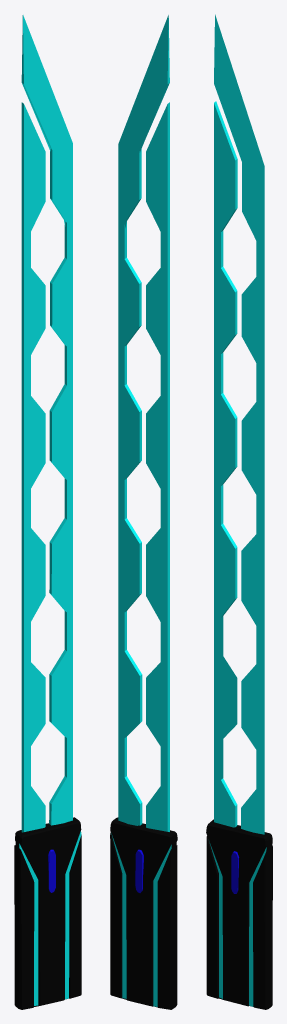
Rendered from sword.glb.
3 renders of one model, left to right at view 1: azimuth 30°, elevation 25°; view 2: azimuth 150°, elevation 25°; view 3: azimuth 330°, elevation 25°, orthographic.
Parts seen in each view (by area): view 1: ニューブレード, material.002, material, material.001; view 2: ニューブレード, material.002, material, material.001; view 3: ニューブレード, material.002, material, material.001.
Part boxes in pixels (x1,y1,x2,y2): ニューブレード: [21, 15, 72, 832]; material.002: [14, 817, 81, 1009]; material: [19, 831, 81, 1005]; material.001: [48, 849, 55, 892]; ニューブレード: [118, 15, 169, 831]; material.002: [110, 817, 177, 1009]; material: [111, 833, 171, 1006]; material.001: [135, 849, 143, 893]; ニューブレード: [214, 14, 264, 834]; material.002: [206, 819, 272, 1009]; material: [209, 841, 266, 1006]; material.001: [231, 851, 239, 893].
Bounding box in the file's own units: 0.0778 × 1.19 × 0.0219.
